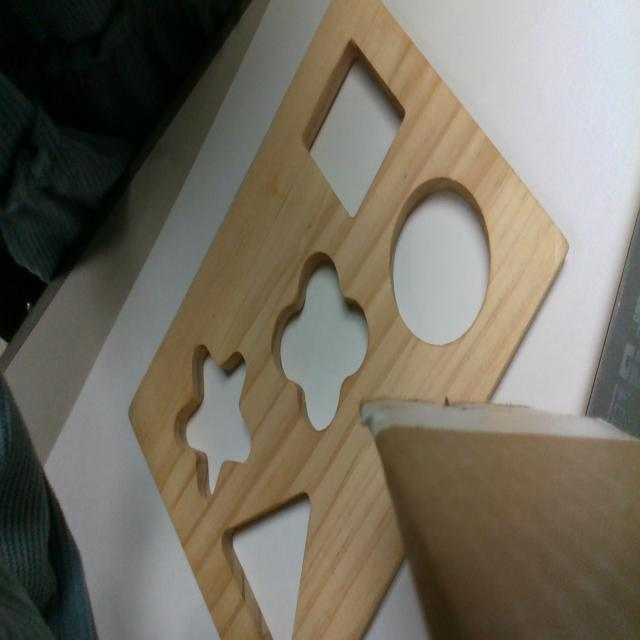circle: (392, 177, 491, 343)
flower: (274, 251, 370, 427)
square: (300, 35, 406, 218)
star: (171, 344, 251, 499)
triangle: (219, 491, 312, 639)
